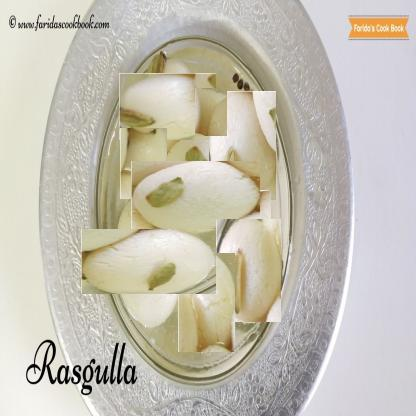rasgulla: (146, 146, 246, 247), (99, 211, 199, 312), (208, 91, 276, 200), (216, 218, 281, 322), (127, 66, 208, 147), (178, 252, 235, 352), (120, 127, 167, 200), (230, 189, 270, 229), (195, 88, 227, 136)
